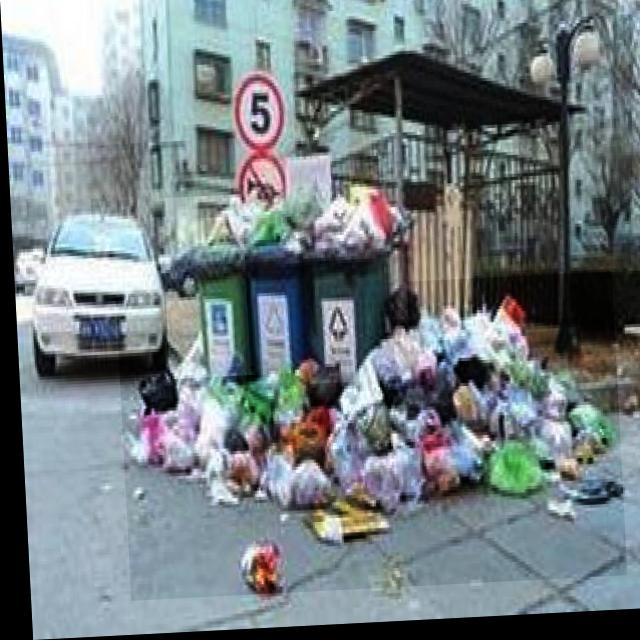garbage: (112, 278, 621, 602)
overflow: (297, 184, 407, 388), (159, 197, 249, 381), (239, 185, 311, 378)
